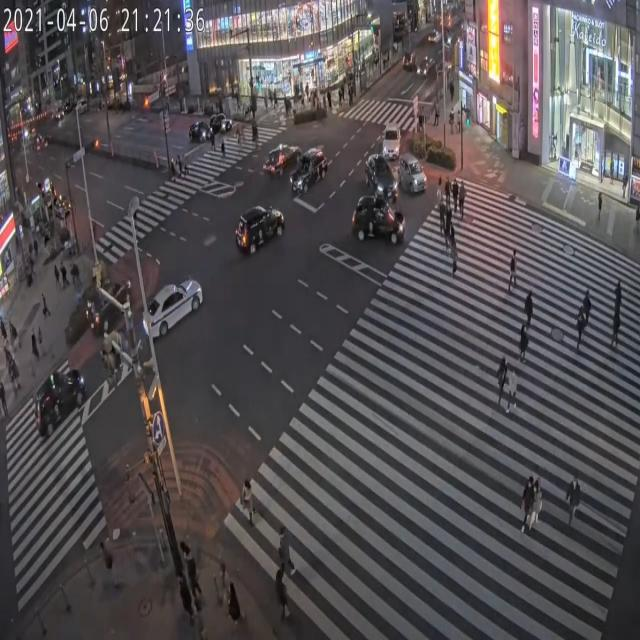humans: (272, 524, 296, 590), (240, 468, 261, 534), (177, 538, 200, 598), (174, 565, 194, 626), (272, 562, 291, 624), (610, 274, 626, 336), (565, 467, 581, 528), (497, 346, 510, 414), (446, 226, 461, 284), (504, 250, 523, 295), (530, 475, 546, 527), (609, 299, 624, 349), (228, 578, 240, 640), (218, 553, 230, 607), (506, 366, 518, 418), (520, 287, 534, 330), (575, 297, 586, 351), (522, 470, 532, 526), (580, 289, 592, 334), (517, 320, 528, 368), (444, 175, 454, 215), (451, 179, 460, 214), (445, 197, 453, 236), (457, 178, 465, 215), (435, 176, 444, 207), (440, 197, 444, 240)
